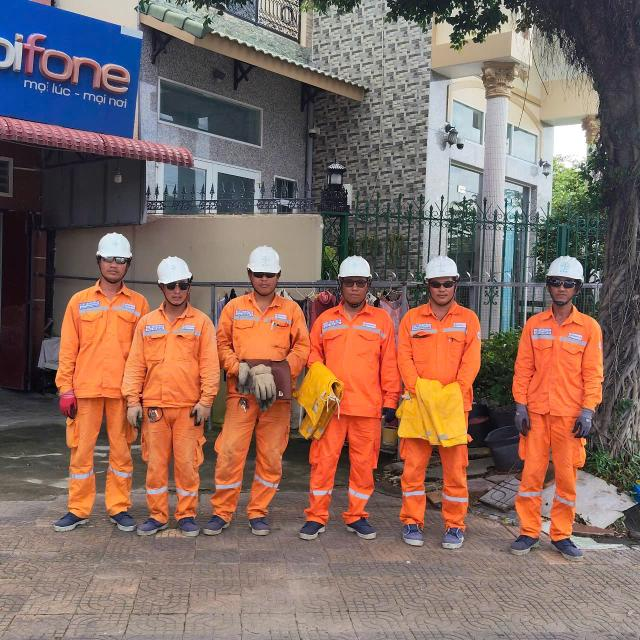gloves: (237, 364, 282, 406), (507, 403, 537, 436), (574, 407, 598, 438), (122, 404, 148, 430), (58, 392, 80, 417), (189, 405, 213, 425), (382, 406, 398, 424)
helmet: (89, 225, 134, 264), (150, 256, 196, 292), (243, 244, 287, 278), (422, 248, 463, 282), (336, 251, 377, 282), (541, 256, 590, 280)
shoes: (498, 522, 546, 558), (330, 511, 380, 543), (547, 531, 587, 563), (193, 505, 232, 534), (296, 512, 331, 543), (439, 520, 471, 552), (49, 505, 83, 534), (137, 507, 168, 538), (242, 512, 272, 538), (402, 521, 428, 551), (175, 517, 203, 541), (102, 512, 135, 532)
